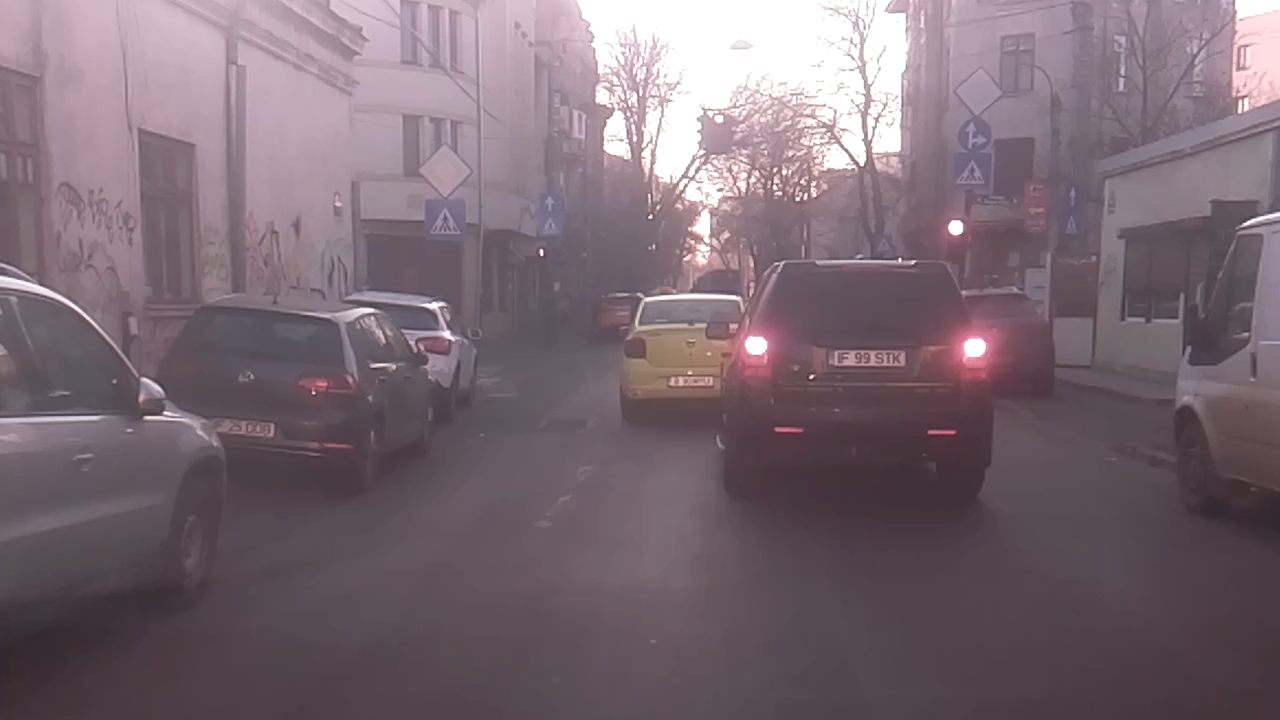license-plate: (822, 344, 909, 371)
